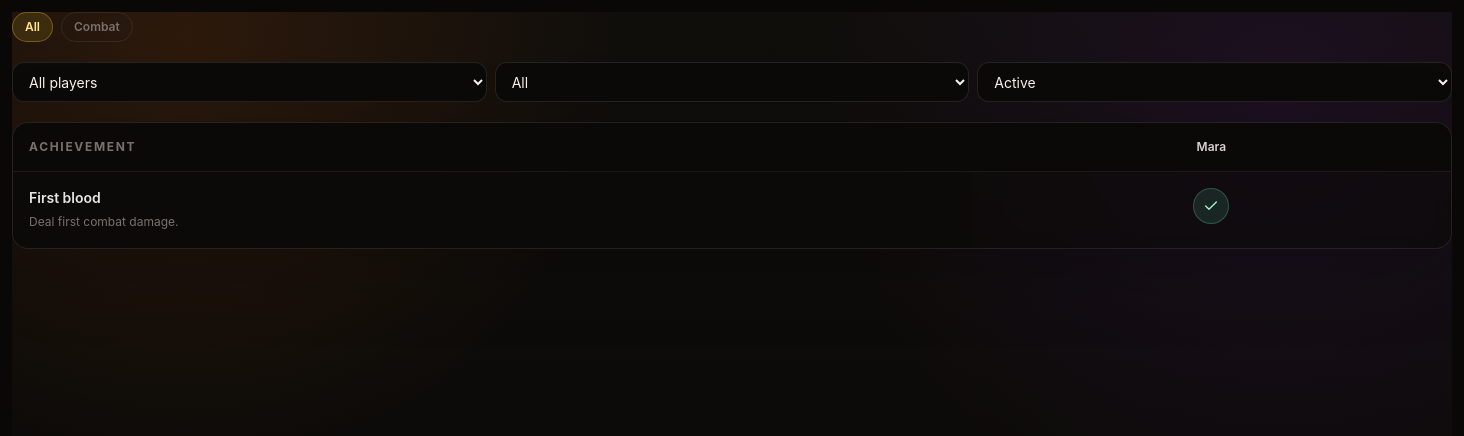
it: achievement matrix › shows active achievements by default and can inspect archived catalog entries
Check: the text "First blood" is shown, box [29, 189, 101, 206]
Check: the button "Combat" is shown, box [61, 12, 133, 42]
Select "Archived" in the dropdown named "Filter catalog status" at (1215, 82), box [977, 62, 1452, 102]
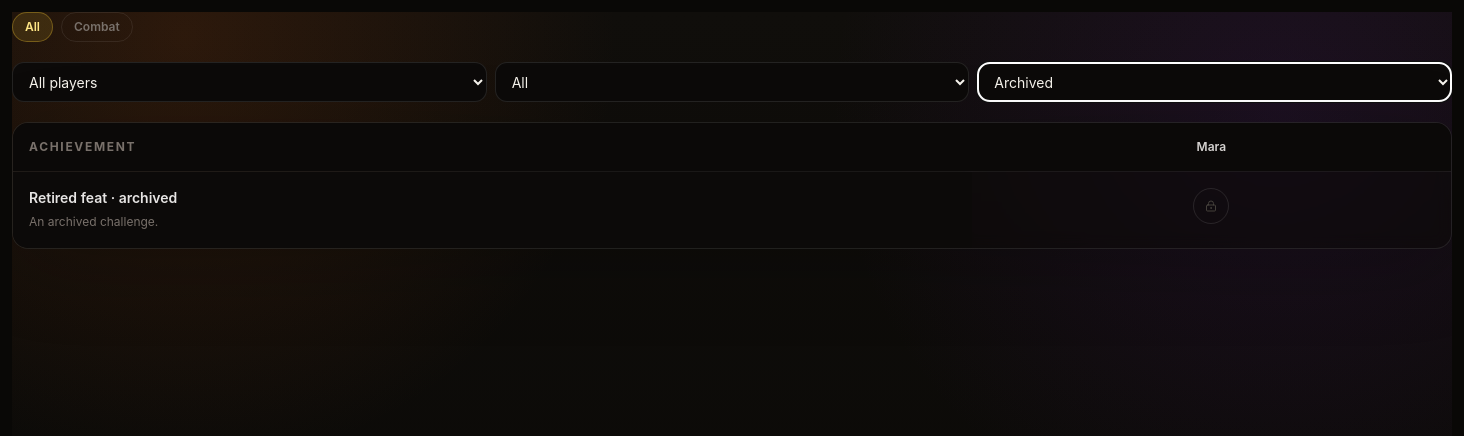
Check: the text "Retired feat · archived" is shown, box [29, 189, 177, 206]
